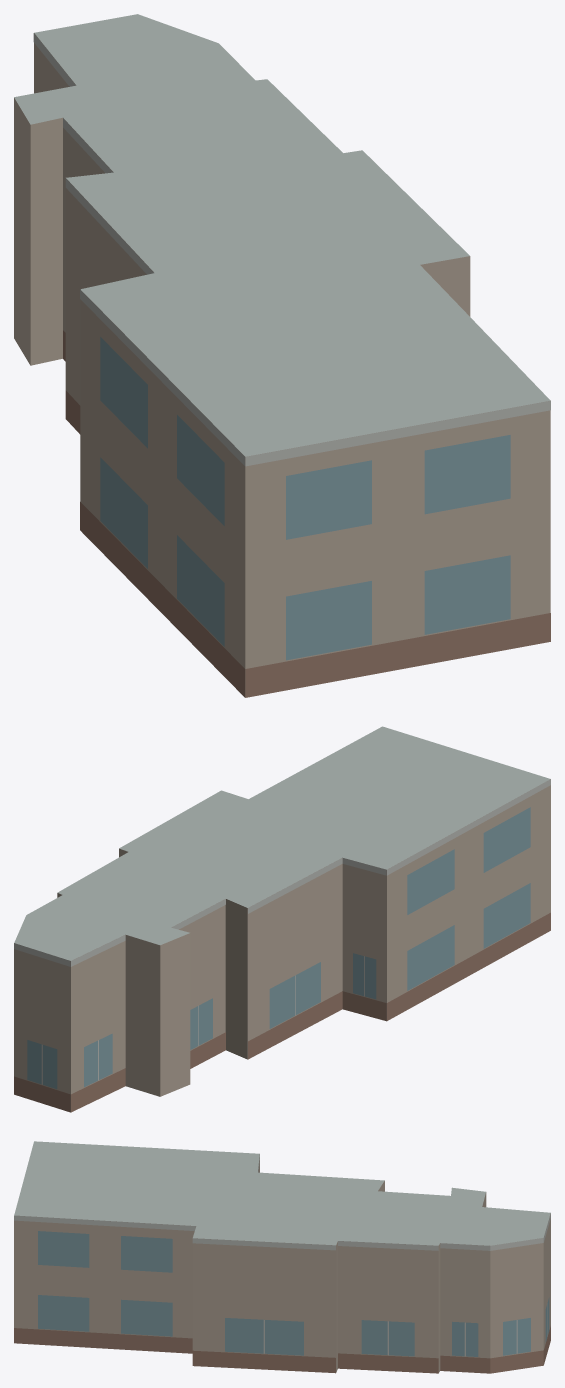
The model's file is survey-upis-32587535.glb.
3 views of the same model, one above another, from view 1: azimuth 30°, elevation 25°; view 2: azimuth 150°, elevation 25°; view 3: azimuth 270°, elevation 25° (orthographic). The views are drawn at different scales.
Visible parts, largest first — view 1: survey-upis-32587535.tmp; view 2: survey-upis-32587535.tmp; view 3: survey-upis-32587535.tmp.
Boxes of the visible parts, x1,y1,x2,y2 form: survey-upis-32587535.tmp: [14, 14, 550, 697]; survey-upis-32587535.tmp: [14, 726, 550, 1112]; survey-upis-32587535.tmp: [14, 1141, 550, 1373].
Bounding box in the file's own units: 10.71 × 6.1 × 23.23.
